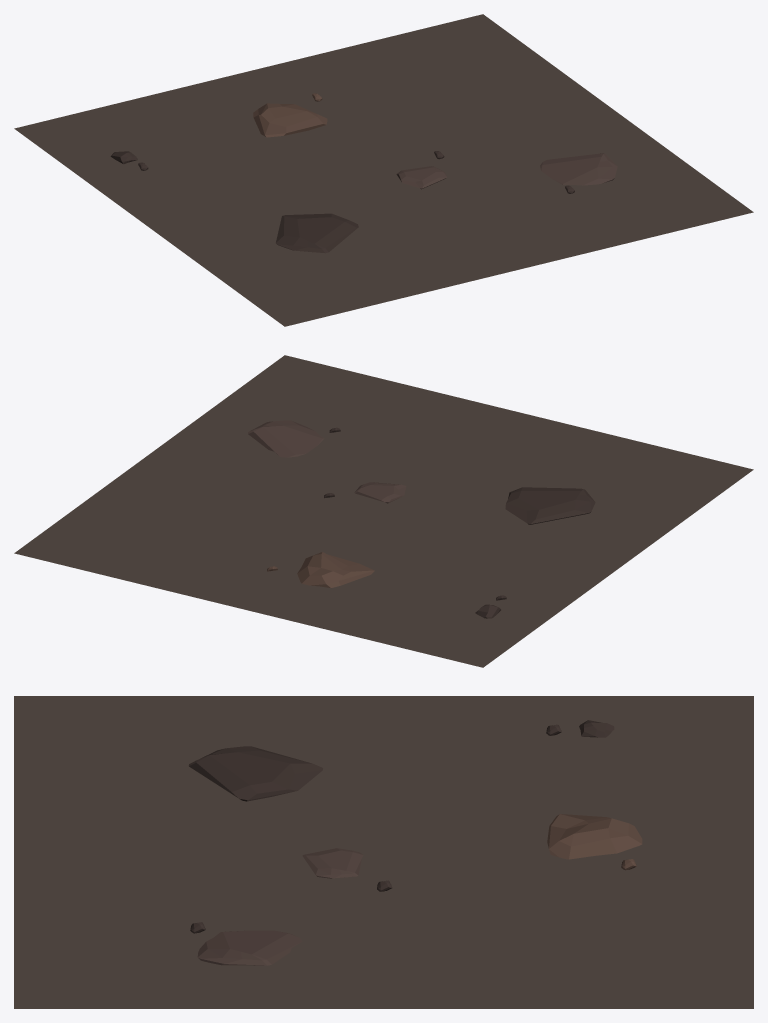
File: Floor3.fbx
The picture shows the model from 3 angles, top to bottom: view 1: azimuth 30°, elevation 25°; view 2: azimuth 150°, elevation 25°; view 3: azimuth 270°, elevation 25°; orthographic projection. The views are drawn at different scales.
Parts seen in each view (by area): view 1: Suelo3; view 2: Suelo3; view 3: Suelo3.
Boxes of the visible parts, x1,y1,x2,y2 form: Suelo3: [14, 14, 753, 326]; Suelo3: [14, 355, 753, 667]; Suelo3: [14, 696, 753, 1008].
Bounding box in the file's own units: 600 × 31.41 × 600.
